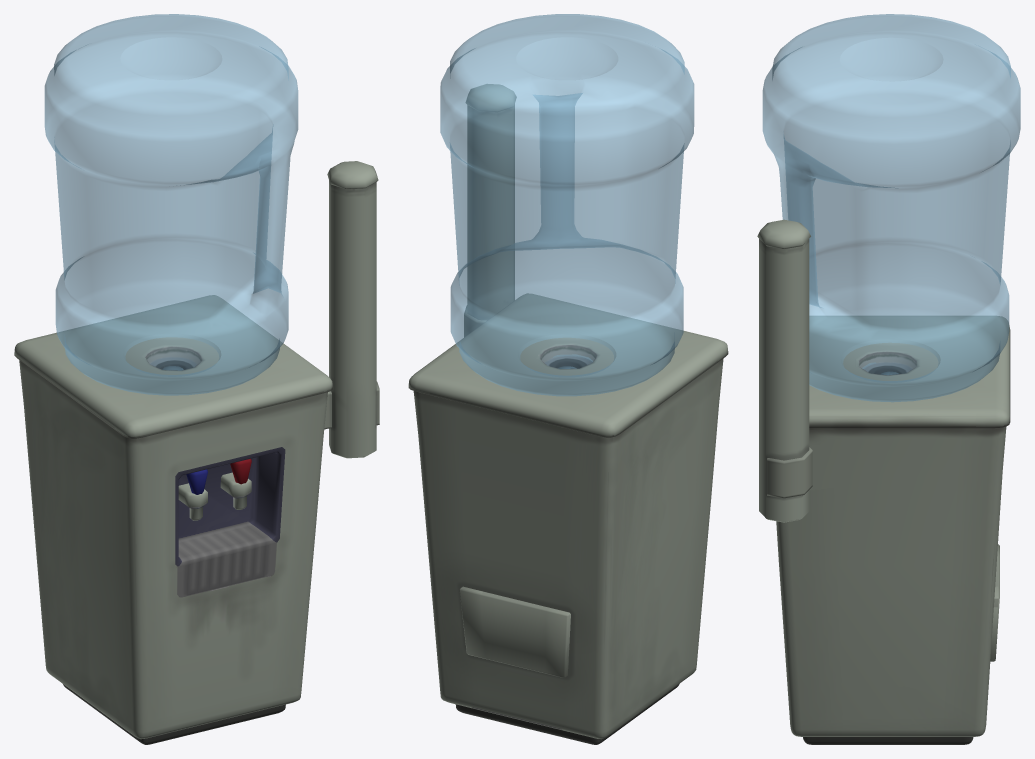
The model's file is PRP_WaterCooler.fbx.
3 renders of one model, left to right at view 1: azimuth 30°, elevation 25°; view 2: azimuth 150°, elevation 25°; view 3: azimuth 270°, elevation 25°, orthographic.
Parts seen in each view (by area): view 1: Cube.006, Cube.007; view 2: Cube.006, Cube.007; view 3: Cube.006, Cube.007.
Part boxes in pixels (<box>): Cube.006: <box>14,161,379,744</box>; Cube.007: <box>44,14,298,395</box>; Cube.006: <box>408,84,728,744</box>; Cube.007: <box>440,14,694,396</box>; Cube.006: <box>757,219,1010,744</box>; Cube.007: <box>762,14,1020,402</box>.
Bounding box in the file's own units: 492 × 1149 × 420.
